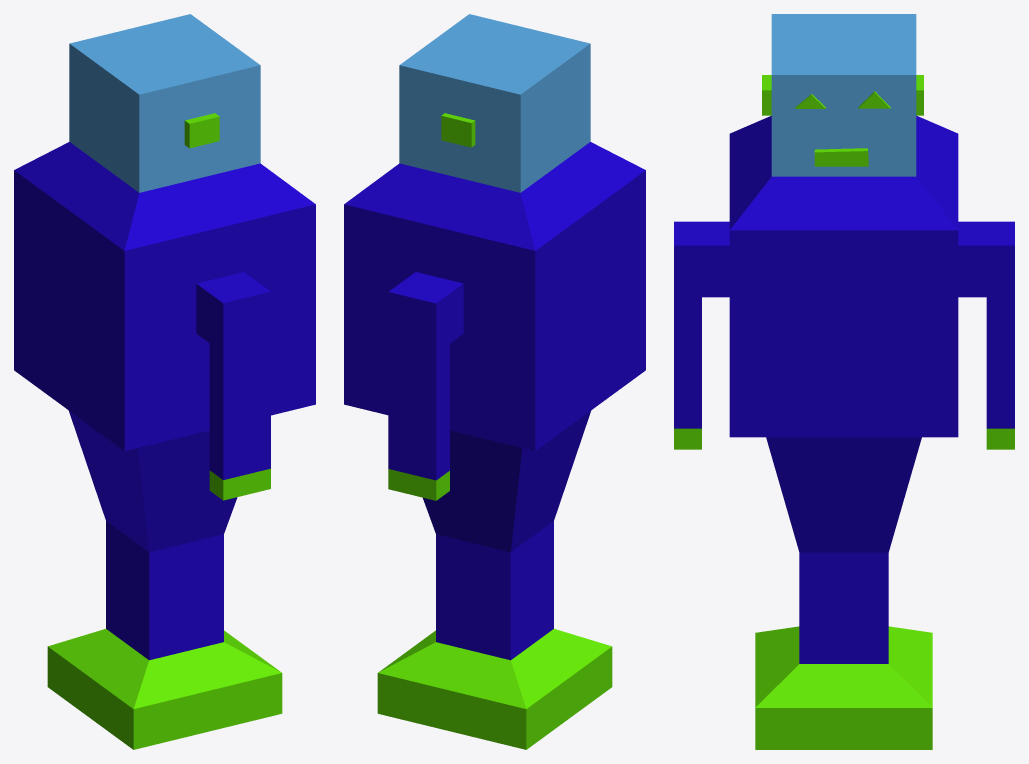
The model's file is player.glb.
3 views of the same model, side by side, from view 1: azimuth 30°, elevation 25°; view 2: azimuth 150°, elevation 25°; view 3: azimuth 270°, elevation 25° (orthographic). The views are drawn at different scales.
Visible parts, largest first — view 1: Cube; view 2: Cube; view 3: Cube.
Boxes of the visible parts, x1=… form: Cube: x1=14, y1=14, x2=315, y2=749; Cube: x1=344, y1=14, x2=645, y2=749; Cube: x1=674, y1=14, x2=1014, y2=749.
Bounding box in the file's own units: 2 × 6.45 × 2.98.
